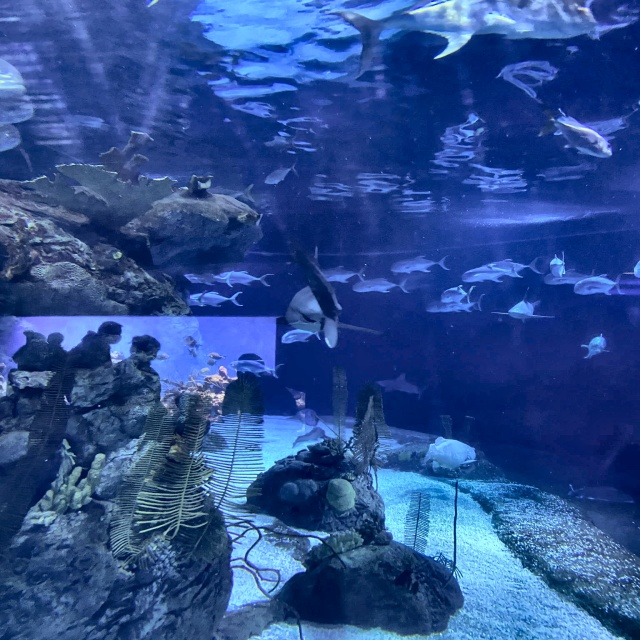fish: (326, 0, 598, 78), (538, 104, 612, 158), (422, 437, 475, 470), (462, 264, 520, 283), (228, 358, 283, 378), (391, 254, 448, 273), (575, 274, 623, 296), (216, 270, 271, 289), (185, 290, 241, 308), (352, 278, 408, 294), (428, 297, 482, 313), (486, 258, 540, 274), (182, 271, 234, 287), (582, 333, 611, 359), (265, 161, 296, 185), (280, 327, 320, 345), (320, 267, 363, 283), (442, 286, 472, 302), (550, 252, 566, 279), (182, 335, 202, 350), (208, 352, 226, 359), (155, 354, 169, 360), (188, 348, 197, 357), (200, 367, 209, 374), (206, 359, 216, 365)
shark: (271, 252, 368, 347), (493, 287, 552, 321), (375, 372, 430, 398), (292, 426, 326, 449)
stingray: (562, 484, 634, 506)
